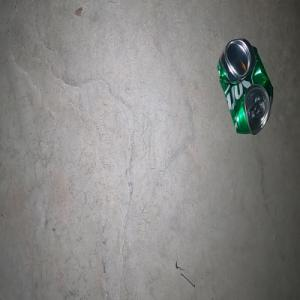SodaCan: (217, 37, 273, 135)
